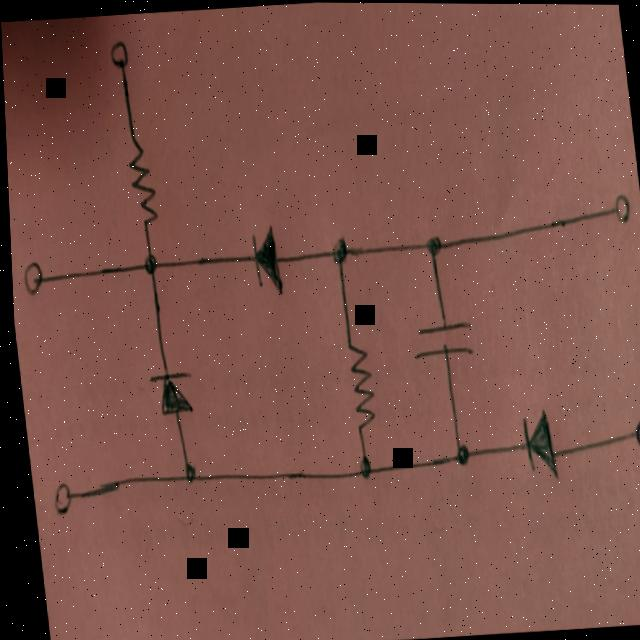capacitor: (411, 318, 472, 365)
diode: (515, 411, 557, 482), (246, 227, 283, 295), (146, 368, 191, 420)
junction: (325, 235, 349, 268), (174, 455, 196, 491), (420, 233, 443, 264), (446, 440, 468, 469), (351, 453, 372, 483), (139, 250, 158, 281)
resistor: (341, 338, 377, 436), (126, 136, 161, 228)
terminal: (107, 38, 133, 77), (47, 480, 72, 520), (20, 260, 44, 300), (608, 191, 632, 225), (626, 417, 640, 452)
